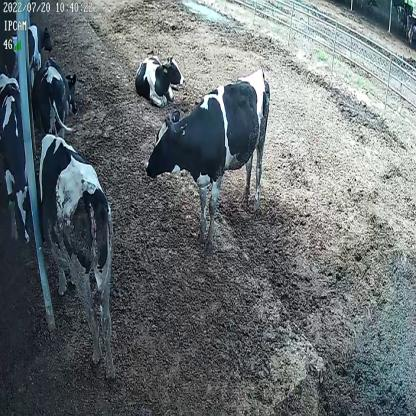cow: (144, 69, 274, 248), (37, 135, 116, 382), (0, 68, 30, 245), (34, 62, 80, 140), (134, 50, 184, 110), (0, 24, 52, 78)
